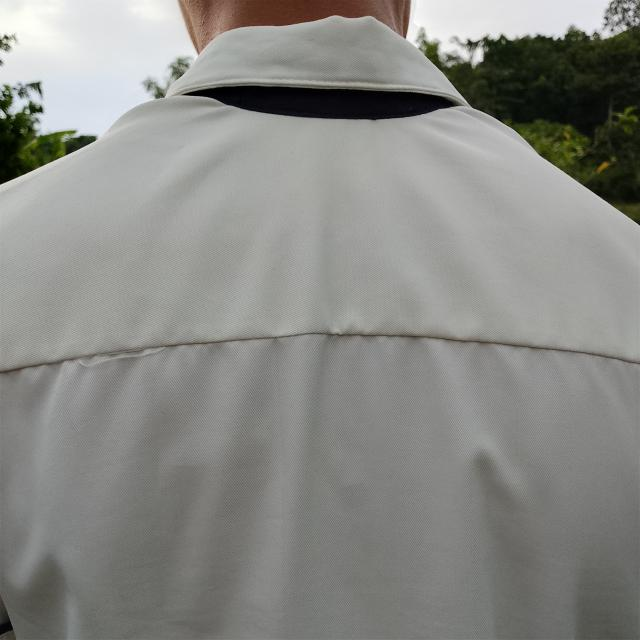education_male_uniform: (0, 14, 640, 601)
